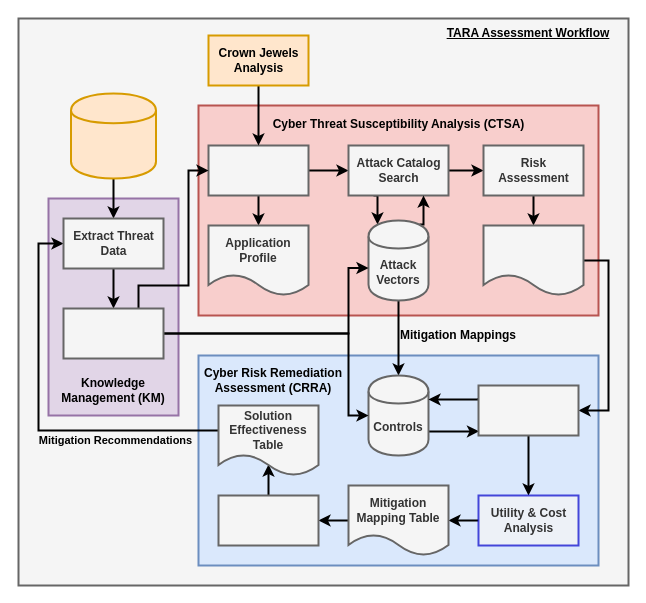
Image size: 646x603. Some labels were removed from this diagram. Here are the shapes that lost their labels. From the top down, the box of each, then its label:
(70, 92, 156, 179): Open-Source Attack Libraries
(207, 144, 309, 196): Cyber Modeling
(482, 224, 584, 296): Vulnerability Matrix
(62, 307, 164, 359): Update Attack & Control Catalogs
(477, 384, 579, 436): Map Vulns to Controls
(217, 494, 319, 546): Selection Strategy
